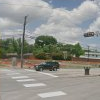crosswalk: (6, 71, 66, 98)
